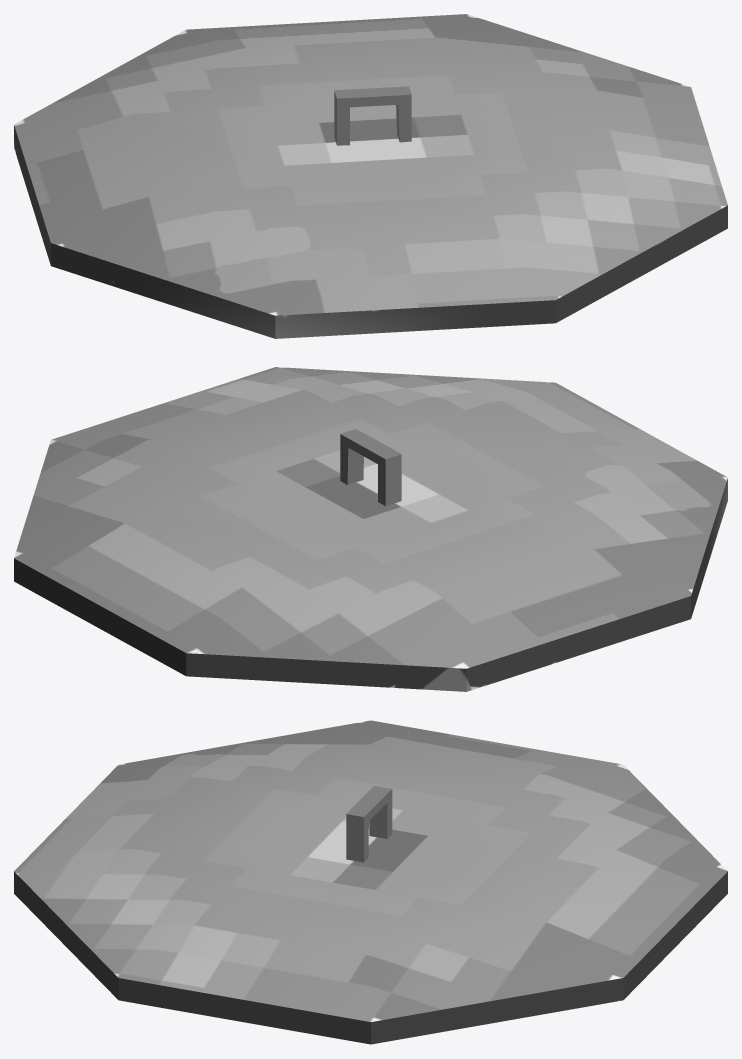
File: TrashLid3D.fbx
3 renders of one model, top to bottom at view 1: azimuth 30°, elevation 25°; view 2: azimuth 150°, elevation 25°; view 3: azimuth 270°, elevation 25°, orthographic. The views are drawn at different scales.
Visible parts, largest first — view 1: pCylinder1; view 2: pCylinder1; view 3: pCylinder1.
Part boxes in pixels (bbox=[...]): pCylinder1: bbox=[14, 14, 727, 338]; pCylinder1: bbox=[14, 367, 727, 691]; pCylinder1: bbox=[14, 720, 727, 1044].
Size of the model in its own units: 2 by 0.2867 by 2.
1 material, 1 textured.
